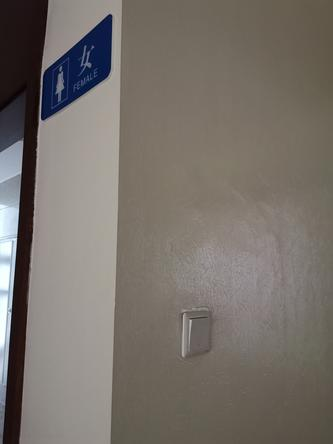switch: (187, 312, 213, 354)
